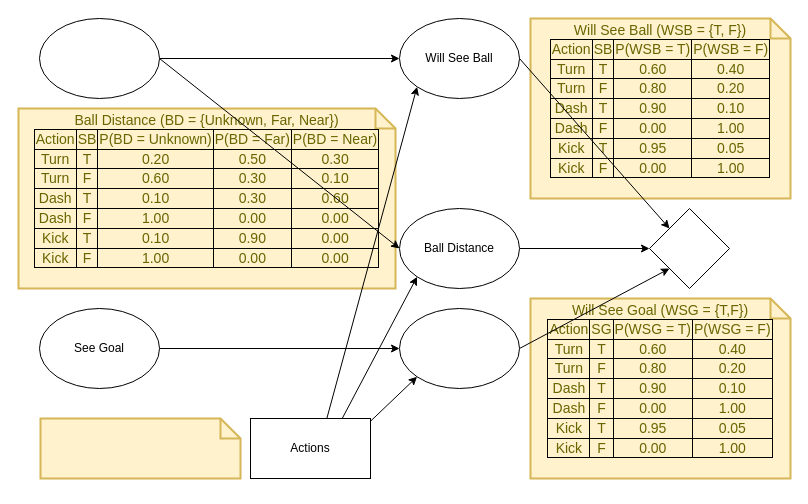
Some shapes in this 808 by 504 pixel diagram are drawn without their labels. The centre of each missing label's shape, as x and y in pixels:
"Actions = {Dash, Turn, Kick}" belongs at [140,448].
"See Ball" belongs at [99,58].
"Utility" belongs at [689,248].
"Will See Goal" belongs at [459,348].
